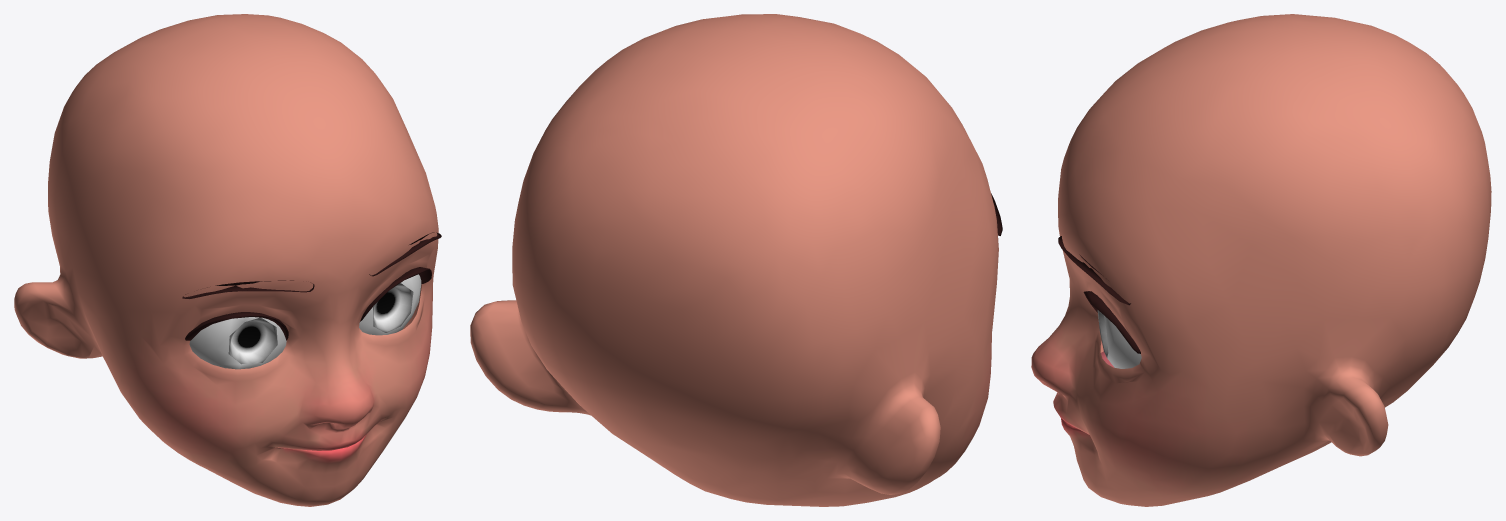
3 renders of one model, left to right at view 1: azimuth 30°, elevation 25°; view 2: azimuth 150°, elevation 25°; view 3: azimuth 270°, elevation 25°, orthographic. The views are drawn at different scales.
Parts seen in each view (by area): view 1: skin.001, eyes.001, lashes.001, brows.001; view 2: skin.001; view 3: skin.001, eyes.001, lashes.001, brows.001.
Boxes of the visible parts, x1,y1,x2,y2 form: skin.001: (14,14,438,506); eyes.001: (189,274,421,369); lashes.001: (185,267,431,340); brows.001: (182,232,441,298); skin.001: (470,14,998,506); skin.001: (1031,14,1491,506); eyes.001: (1097,310,1141,368); lashes.001: (1083,291,1140,353); brows.001: (1058,236,1130,305).
Size of the model in its own units: 1.92 by 2 by 1.83.
9 materials, 2 textured.
